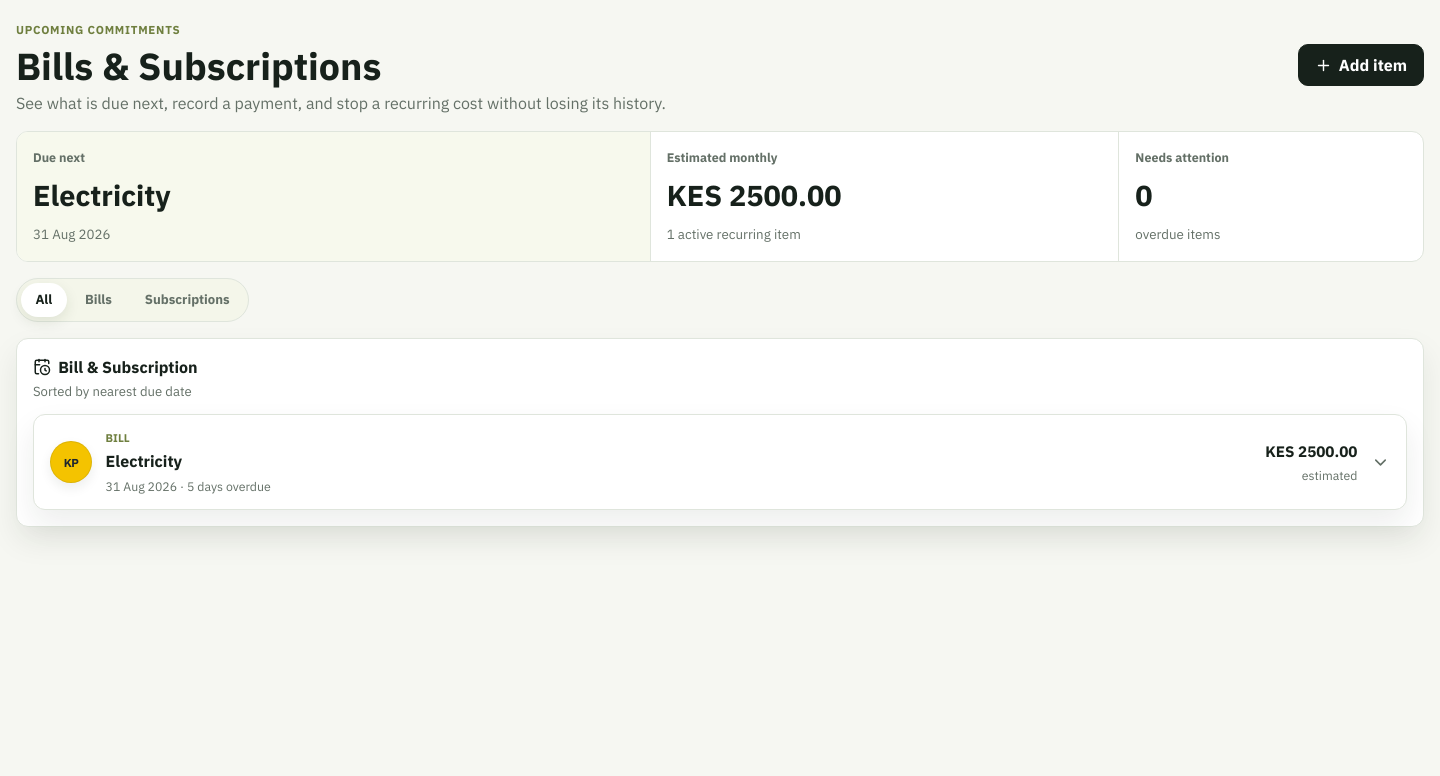
Test case: Bills and subscriptions › keeps cards compact and reveals operational details on demand
Expected: the text "Amount changes with usage" is not shown
Click the button "bill Electricity 31 Aug 2026": (71, 462) [34, 415, 1406, 509]
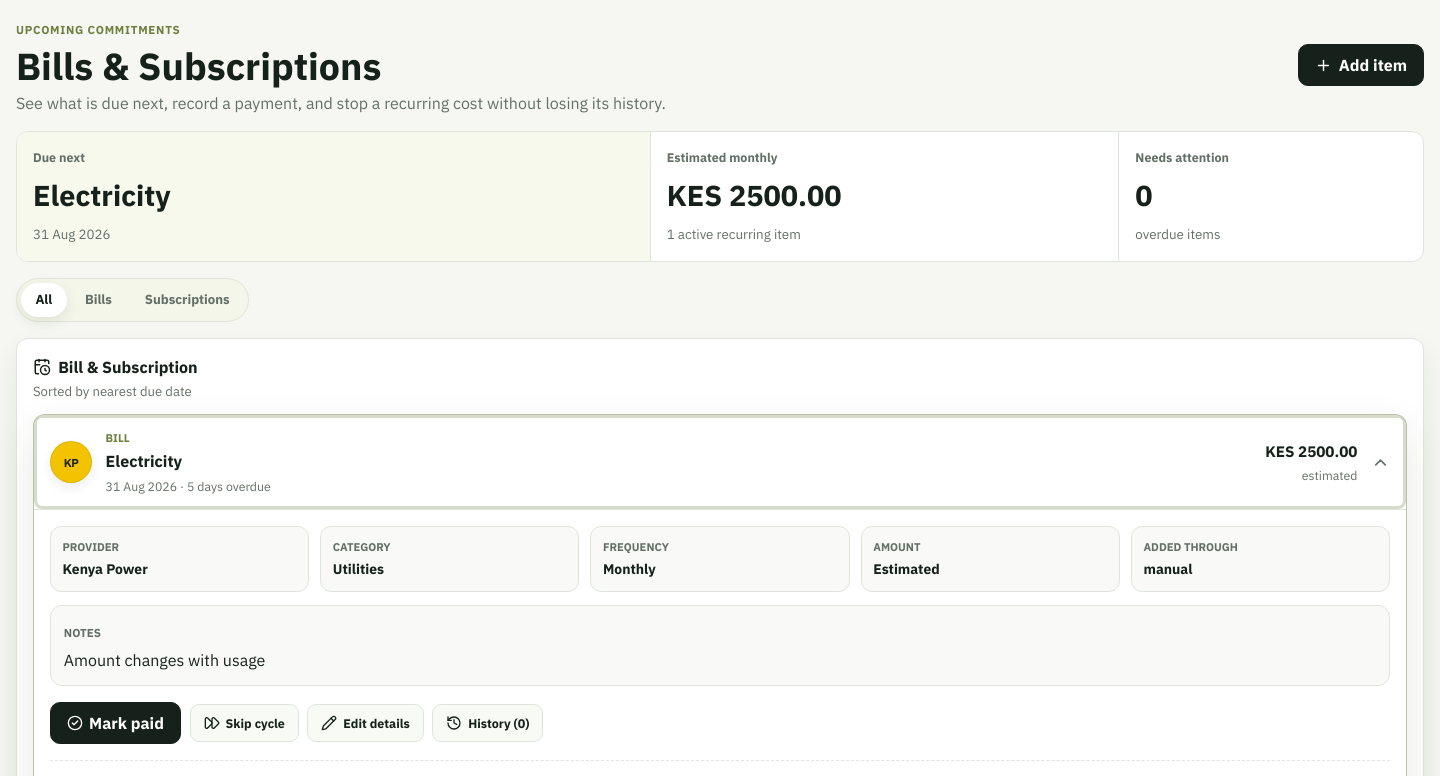
Expected: the text "Amount changes with usage" is shown, [64, 650, 265, 670]
Expected: the text "Kenya Power" is shown, [62, 560, 148, 578]
Click the heading "Bills & Subscriptions": (199, 65) [16, 41, 381, 90]
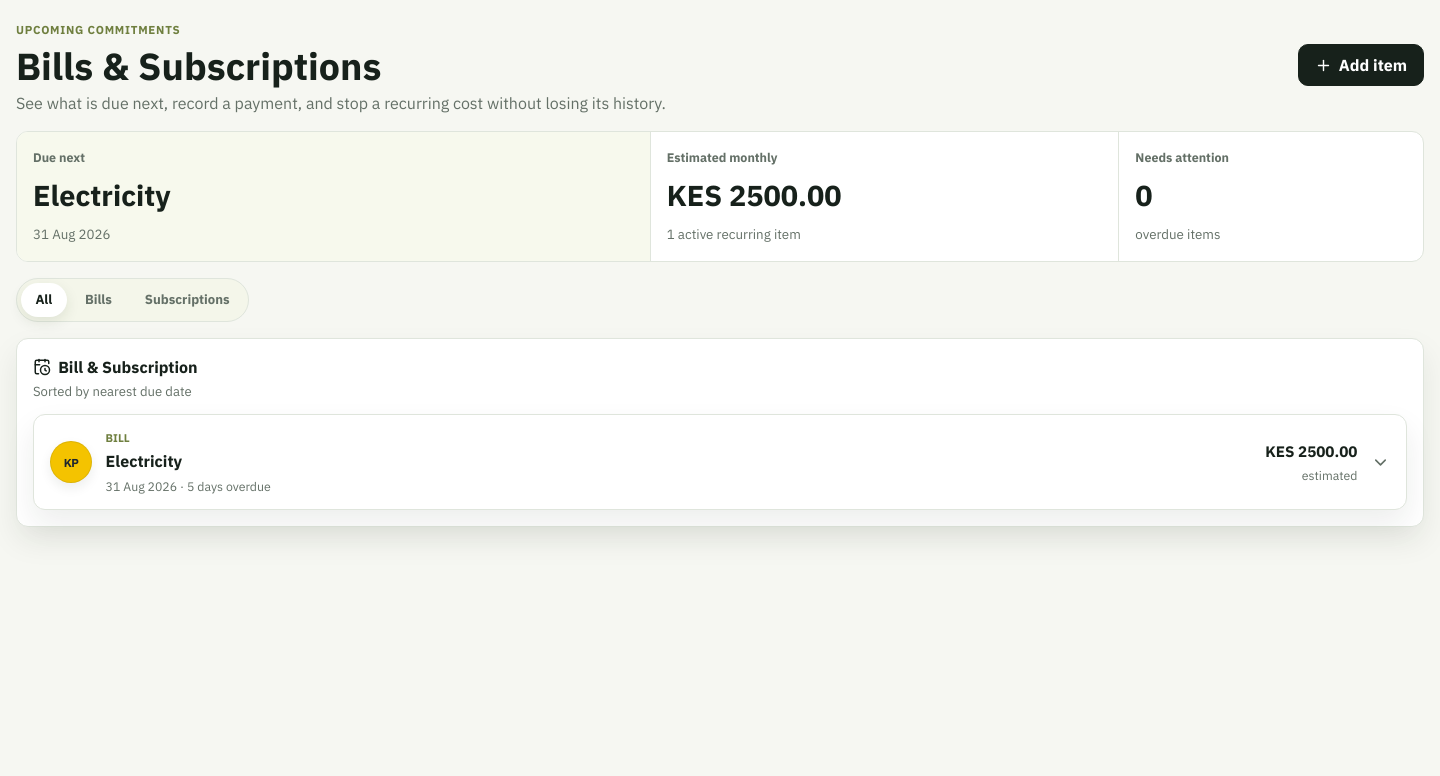
Expected: the text "Amount changes with usage" is gone
